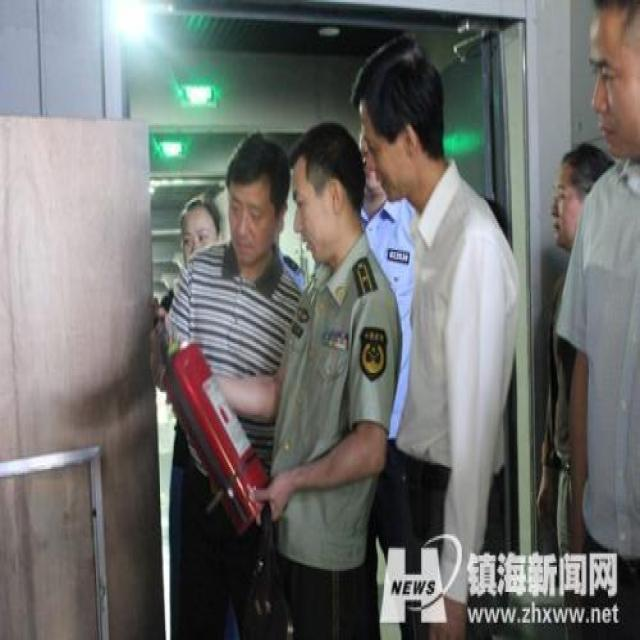no-helmet: (349, 38, 452, 205), (289, 119, 365, 273), (253, 127, 330, 267), (220, 131, 293, 269), (587, 1, 640, 165), (550, 140, 603, 250), (178, 192, 219, 265)
